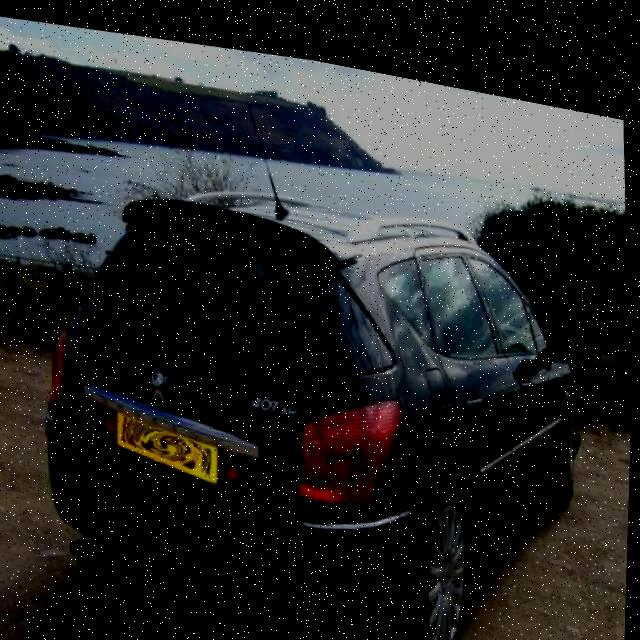license_plate: (117, 401, 224, 482)
